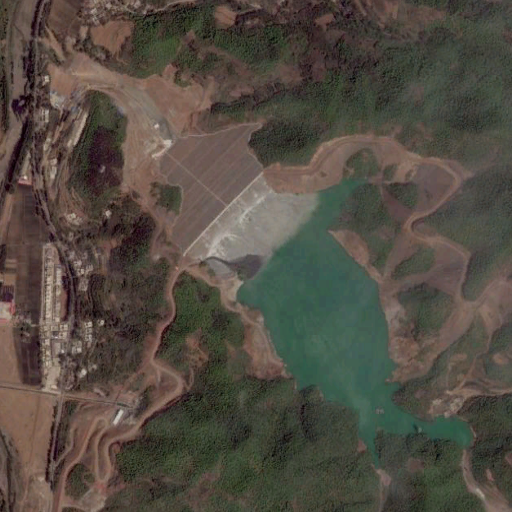tp: (147, 125, 475, 467)
